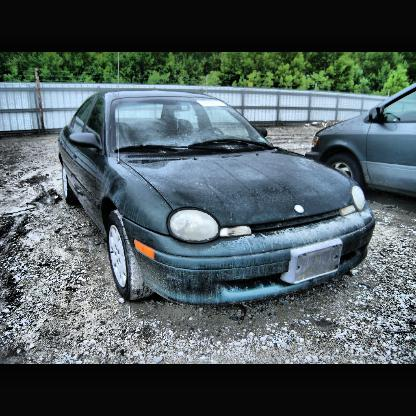Plymouth Neon Coupe 1999: (58, 88, 379, 307)
